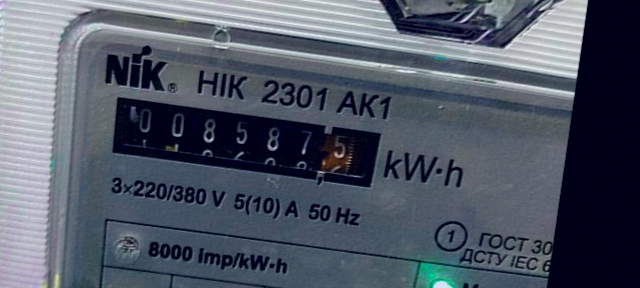0: (134, 103, 155, 135), (167, 109, 188, 139)
5: (330, 132, 351, 163), (231, 117, 252, 147)
7: (294, 125, 315, 158)
8: (262, 122, 283, 154), (199, 115, 219, 145)
screen: (89, 78, 400, 203)
